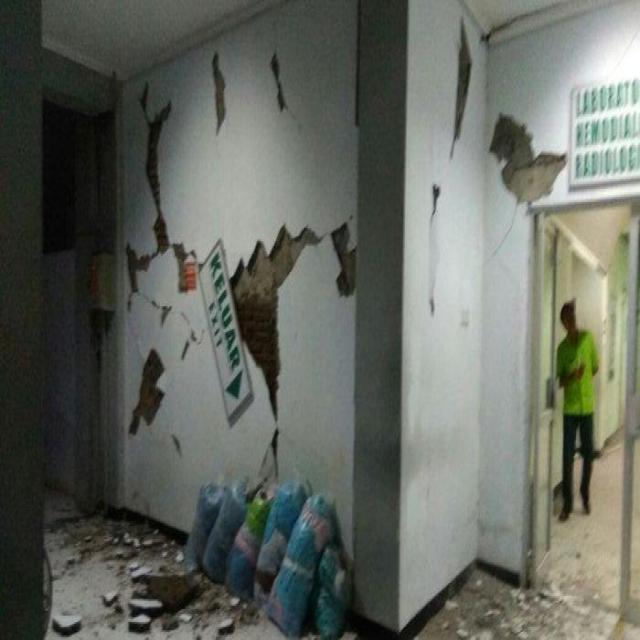damage: (207, 195, 322, 457), (35, 503, 229, 640), (405, 514, 589, 640), (124, 85, 192, 338), (474, 96, 575, 221), (125, 334, 174, 470), (259, 32, 314, 144), (450, 0, 480, 195), (194, 29, 240, 150), (328, 213, 362, 334), (423, 186, 448, 230)
